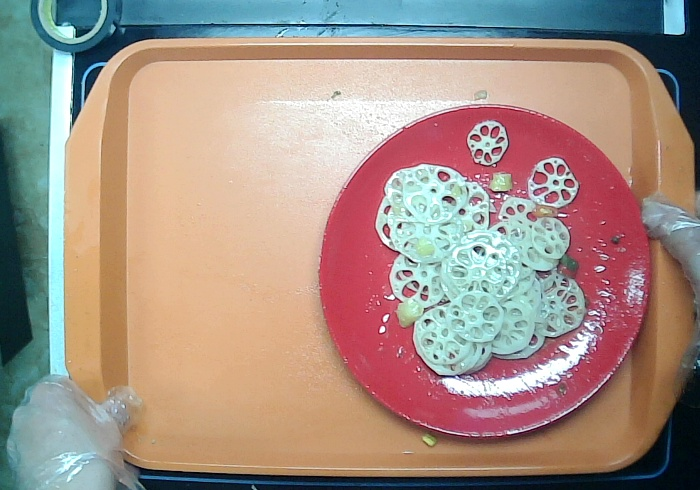HZYJPL-Hong_Se_Yuan_Pan: (311, 95, 652, 442)
